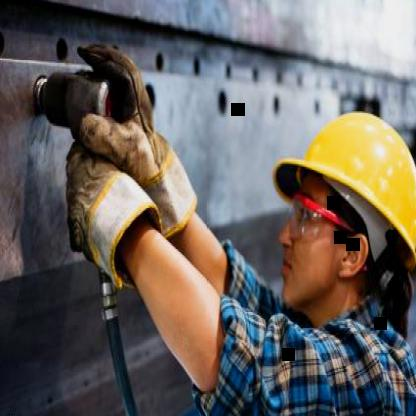helmet: (267, 90, 416, 328)
